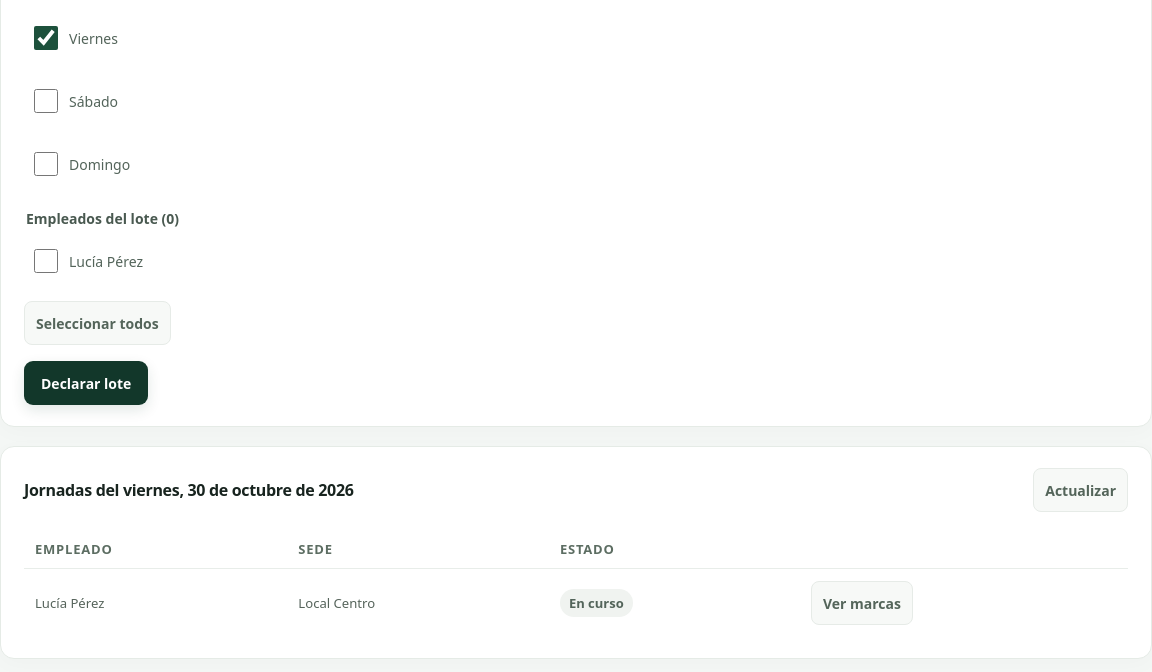
Test: historial de cambios de una jornada (issue #60) › avisa cuando el servidor recortó el historial
The image size is (1152, 672).
(page scrolled)
Click the button "Ver marcas": (862, 603) [811,581,913,625]
(page scrolled)
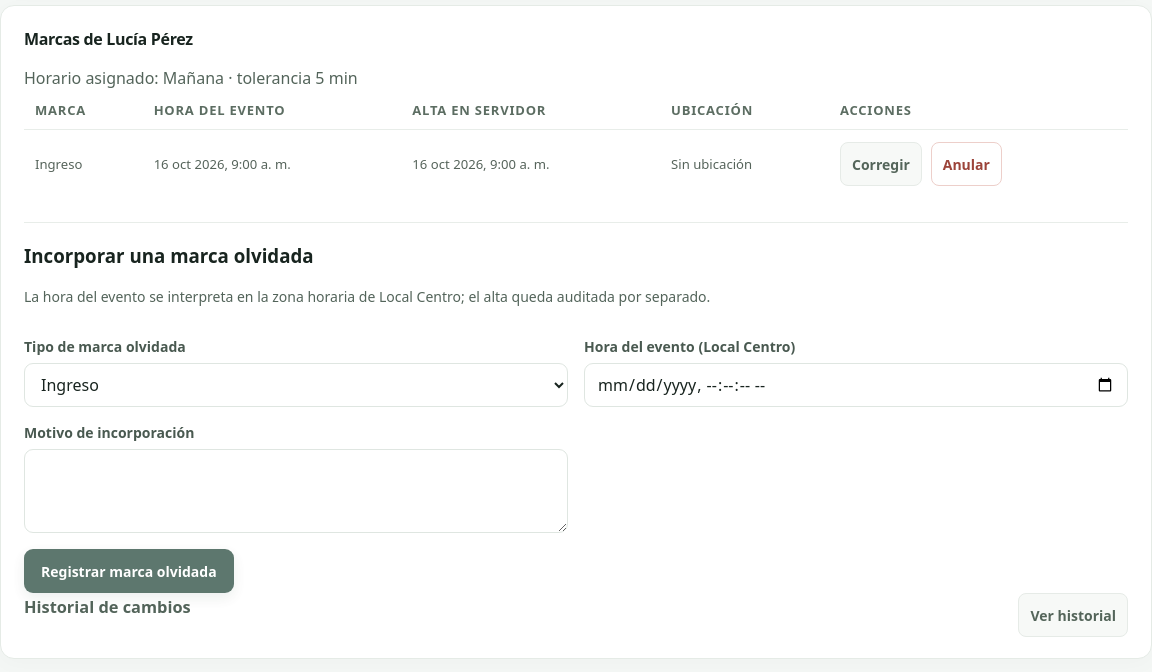
Click the button "Ver historial": (1073, 615) [1018,593,1128,637]
(page scrolled)
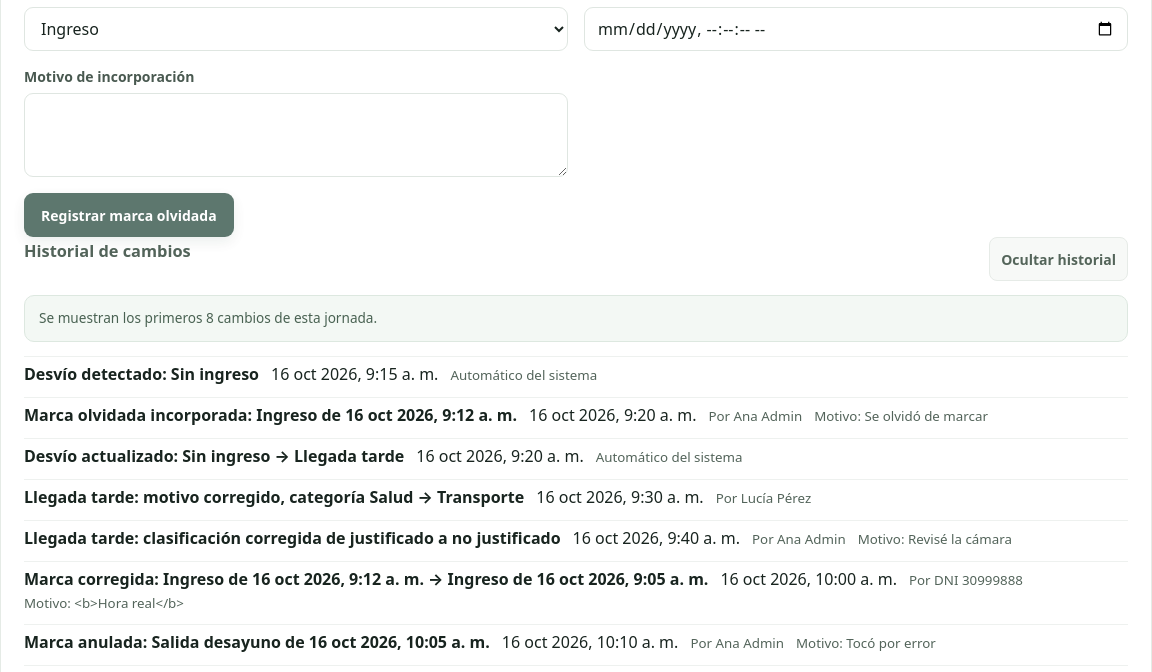
Check: the text "Se muestran los primeros 8 cambios de esta jornada." is shown, box [24,295,1128,342]
